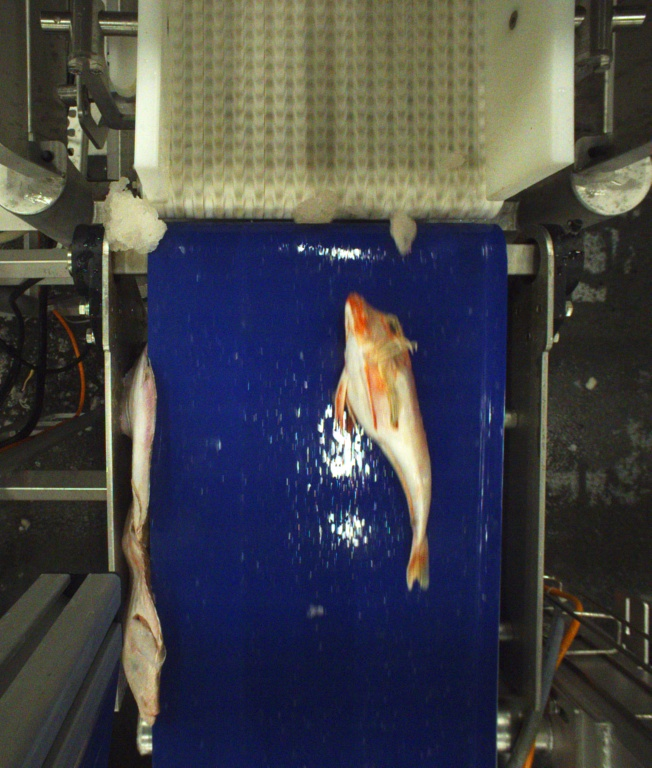GUU: (329, 293, 433, 590)
